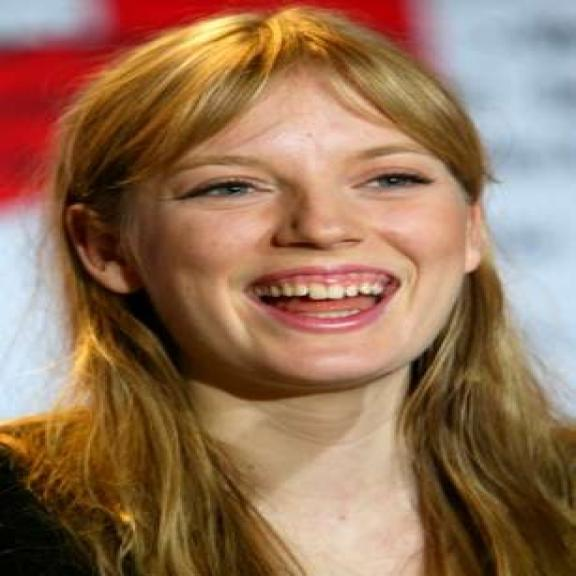face: (60, 63, 498, 405)
